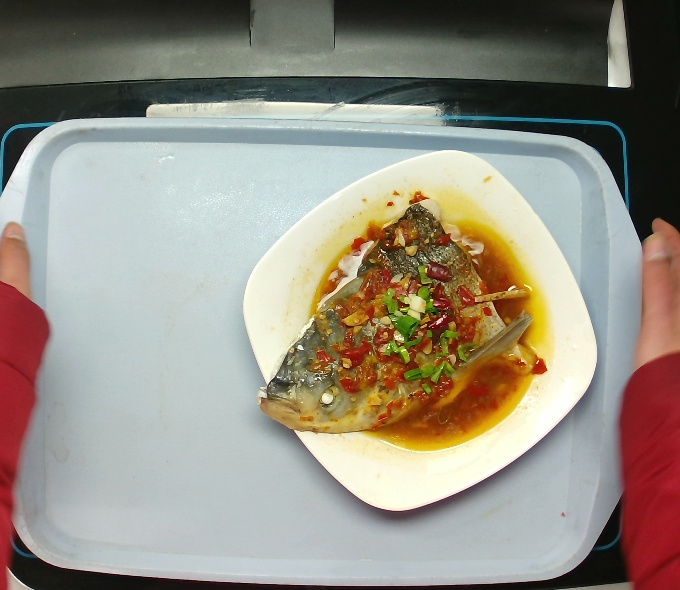wcq-DuoJiaoYuTou: (251, 204, 547, 470)
